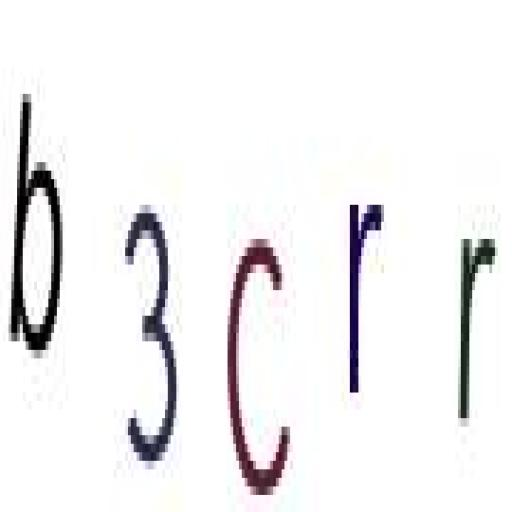3: (113, 192, 186, 484)
C: (223, 202, 296, 510)
b: (6, 70, 67, 366)
r: (452, 207, 498, 438), (342, 190, 388, 406)
